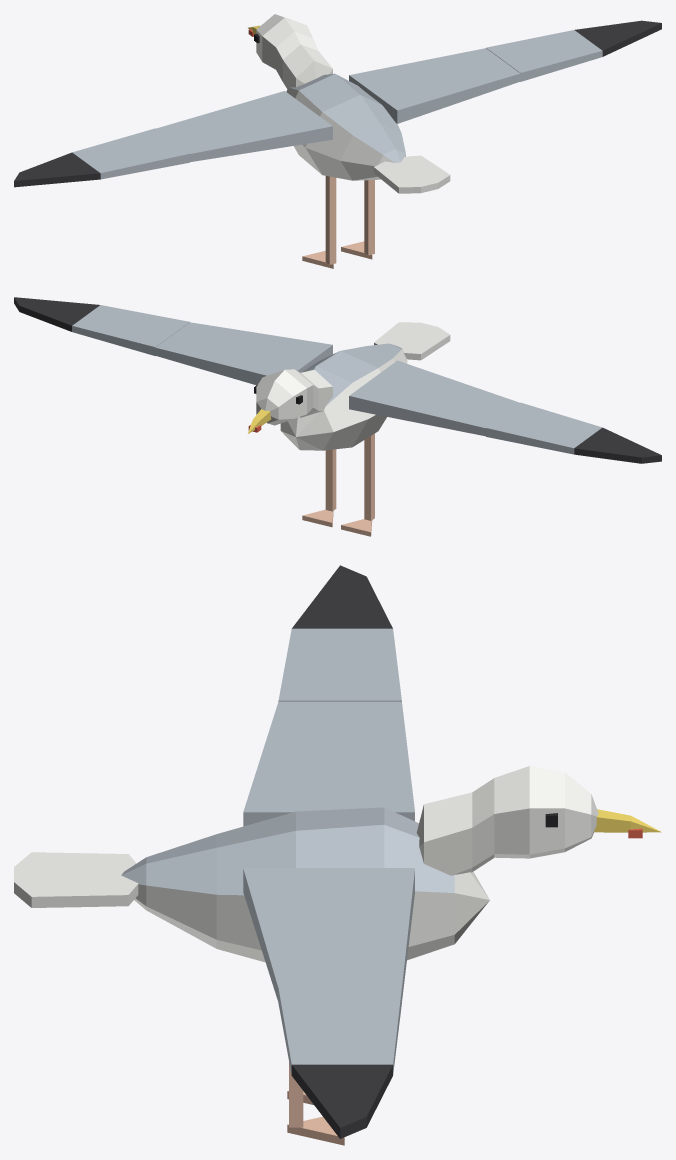
File: gaivota.glb
The picture shows the model from 3 angles, top to bottom: view 1: azimuth 30°, elevation 25°; view 2: azimuth 150°, elevation 25°; view 3: azimuth 270°, elevation 25°; orthographic projection. The views are drawn at different scales.
Parts seen in each view (by area): view 1: Tronco, AsaInterna_E, AsaInterna_D, CabecaMalha, AsaExterna_E, AsaExterna_D, CaudaMalha, PontaPreta_E, PontaPreta_D, Canela_E, Canela_D; view 2: AsaInterna_E, AsaInterna_D, Tronco, AsaExterna_E, AsaExterna_D, CabecaMalha, CaudaMalha, PontaPreta_E, PontaPreta_D, Canela_E, Canela_D, Pe_D (+1 smaller); view 3: Tronco, AsaInterna_D, AsaInterna_E, CabecaMalha, AsaExterna_D, AsaExterna_E, CaudaMalha, PontaPreta_D, PontaPreta_E, Bico, Pe_D.
Part boxes in pixels (bbox=[...]): Tronco: bbox=[286, 73, 405, 180]; AsaInterna_E: bbox=[156, 91, 332, 162]; AsaInterna_D: bbox=[349, 48, 520, 123]; CabecaMalha: bbox=[256, 14, 332, 88]; AsaExterna_E: bbox=[72, 128, 189, 179]; AsaExterna_D: bbox=[486, 30, 602, 81]; CaudaMalha: bbox=[374, 155, 450, 193]; PontaPreta_E: bbox=[14, 152, 100, 187]; PontaPreta_D: bbox=[575, 20, 661, 56]; Canela_E: bbox=[325, 176, 336, 264]; Canela_D: bbox=[364, 180, 374, 255]; AsaInterna_E: bbox=[349, 360, 519, 436]; AsaInterna_D: bbox=[155, 322, 332, 385]; Tronco: bbox=[280, 343, 407, 450]; AsaExterna_E: bbox=[486, 402, 602, 454]; AsaExterna_D: bbox=[72, 305, 189, 355]; CabecaMalha: bbox=[256, 369, 332, 425]; CaudaMalha: bbox=[374, 322, 450, 360]; PontaPreta_E: bbox=[574, 427, 661, 463]; PontaPreta_D: bbox=[14, 297, 99, 331]; Canela_E: bbox=[364, 433, 374, 520]; Canela_D: bbox=[325, 449, 336, 511]; Pe_D: bbox=[302, 509, 333, 527]; Tronco: bbox=[121, 807, 489, 962]; AsaInterna_D: bbox=[243, 868, 414, 1001]; AsaInterna_E: bbox=[243, 701, 414, 826]; CabecaMalha: bbox=[416, 766, 598, 875]; AsaExterna_D: bbox=[278, 987, 401, 1074]; AsaExterna_E: bbox=[278, 628, 401, 701]; CaudaMalha: bbox=[14, 852, 138, 907]; PontaPreta_D: bbox=[291, 1064, 392, 1138]; PontaPreta_E: bbox=[292, 565, 392, 628]; Bico: bbox=[594, 809, 661, 832]; Pe_D: bbox=[287, 1116, 344, 1145].
Size of the model in its own units: 1.51 by 0.438 by 0.735.
